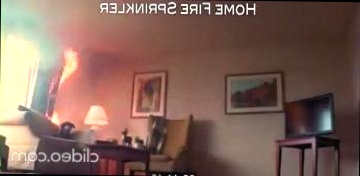fire: (43, 38, 86, 92)
